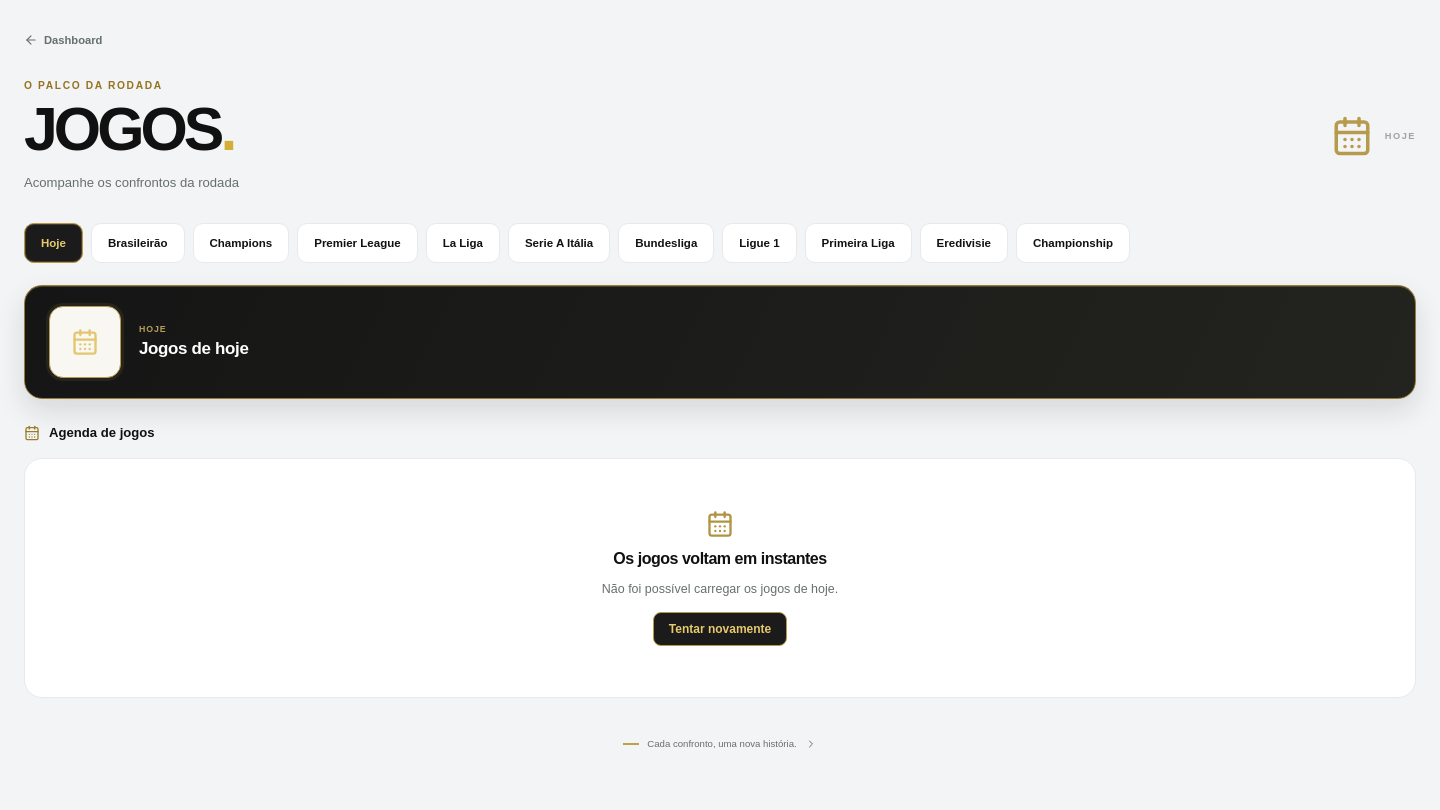
Test case: mantém vazio e erro com retry separados e preserva o seletor
expect the message is shown: met, box [24, 458, 1416, 698]
expect the button "Champions" is shown: met, box [192, 223, 289, 263]
Click the button "Tentar novamente".
click(720, 629)  # box [653, 612, 787, 646]
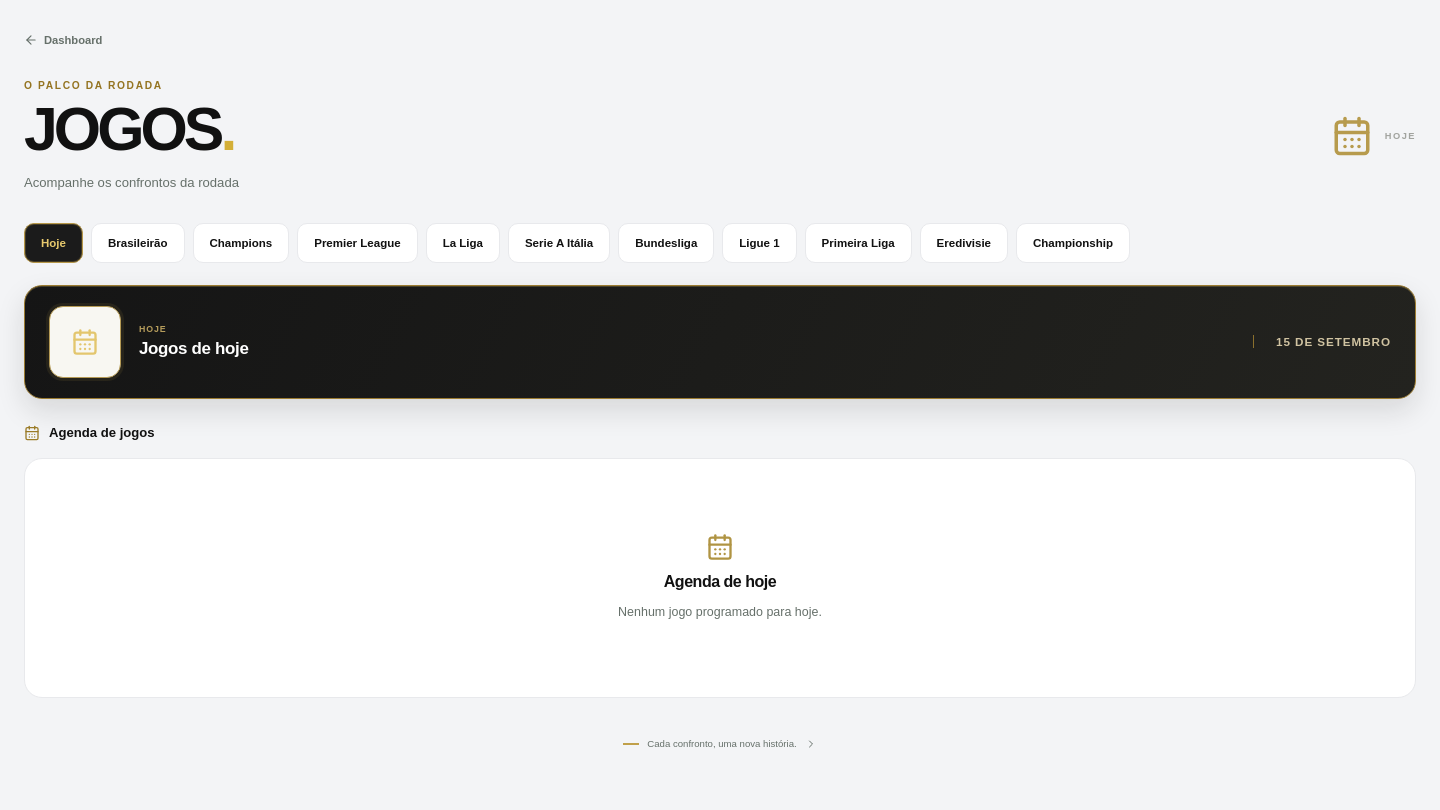
expect the text "Nenhum jogo programado para hoje." is shown: met, box [618, 603, 822, 623]
